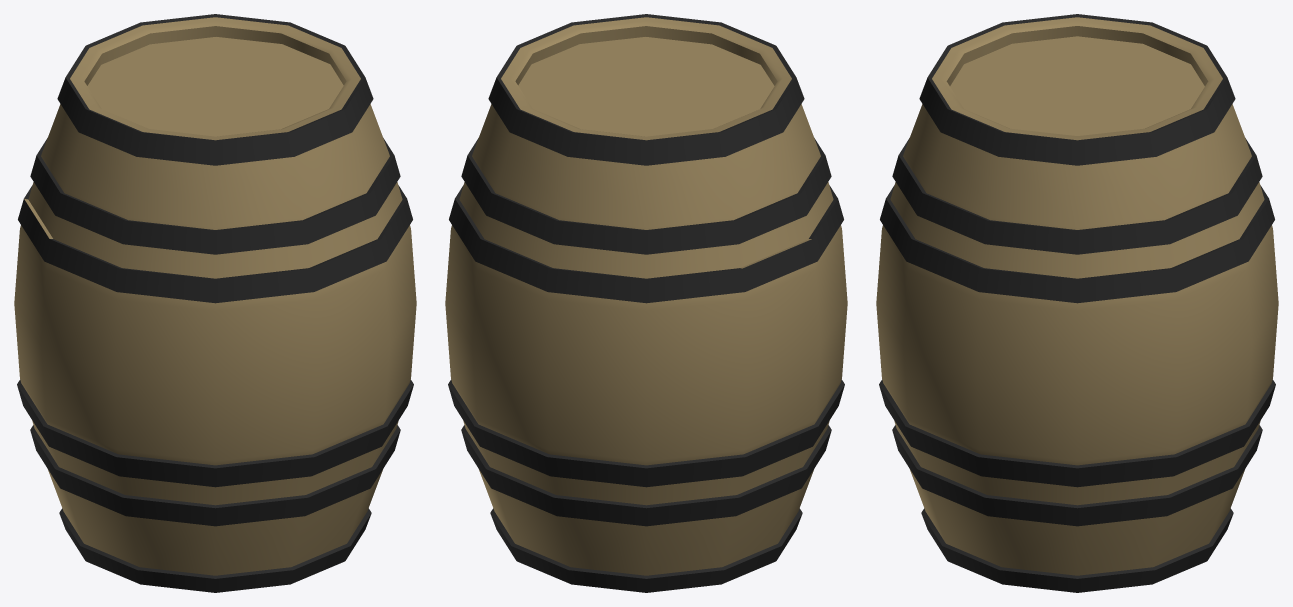
Rendered from BarrelRinged.FBX.
3 views of the same model, side by side, from view 1: azimuth 30°, elevation 25°; view 2: azimuth 150°, elevation 25°; view 3: azimuth 270°, elevation 25° (orthographic).
Parts seen in each view (by area): view 1: Barrel_dDO; view 2: Barrel_dDO; view 3: Barrel_dDO.
Boxes of the visible parts, <box> form: Barrel_dDO: <box>14,14,416,592</box>; Barrel_dDO: <box>445,14,847,592</box>; Barrel_dDO: <box>876,14,1278,592</box>.
Bounding box in the file's own units: 1.06 × 1.32 × 1.06.
